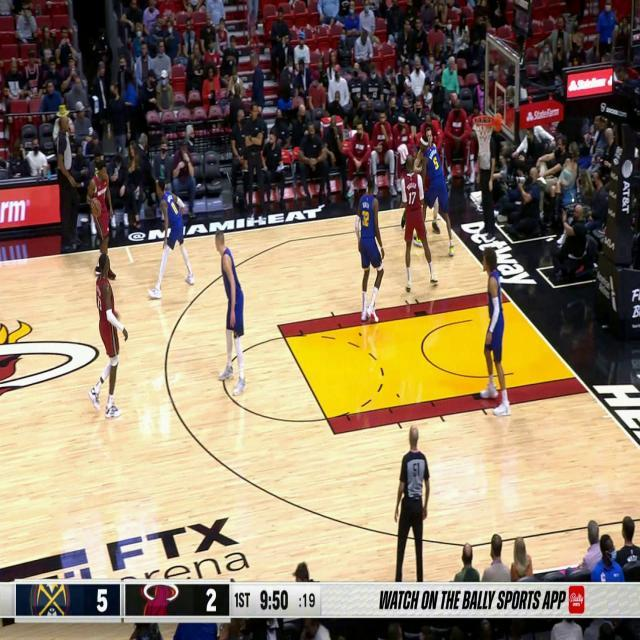rim: (91, 198, 102, 217)
